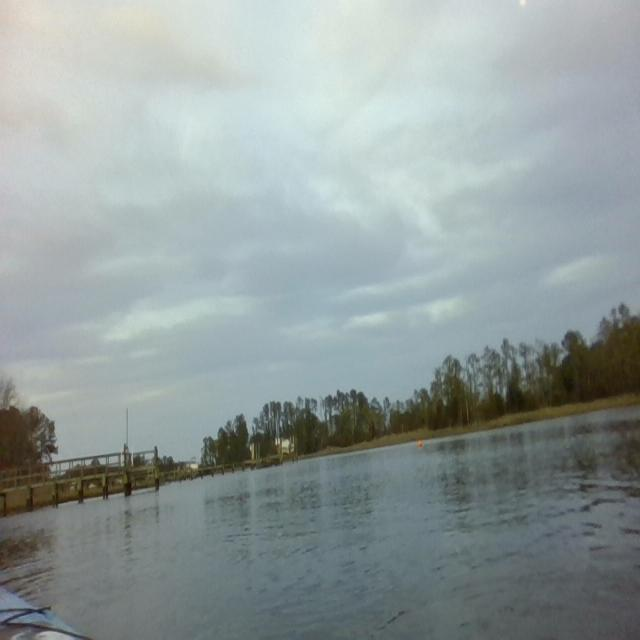Buoy: (417, 434, 425, 452)
